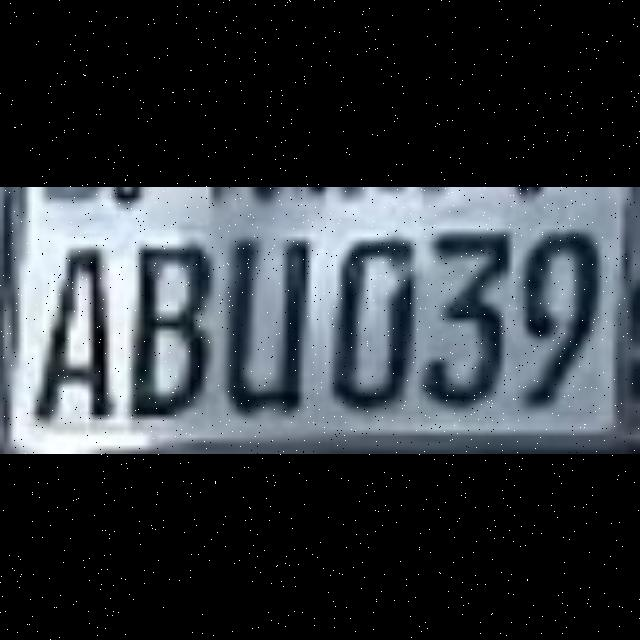0: (318, 225, 416, 419)
3: (416, 225, 514, 419)
9: (516, 225, 612, 419)
A: (24, 225, 120, 419)
B: (123, 225, 220, 419)
U: (222, 225, 318, 419)
